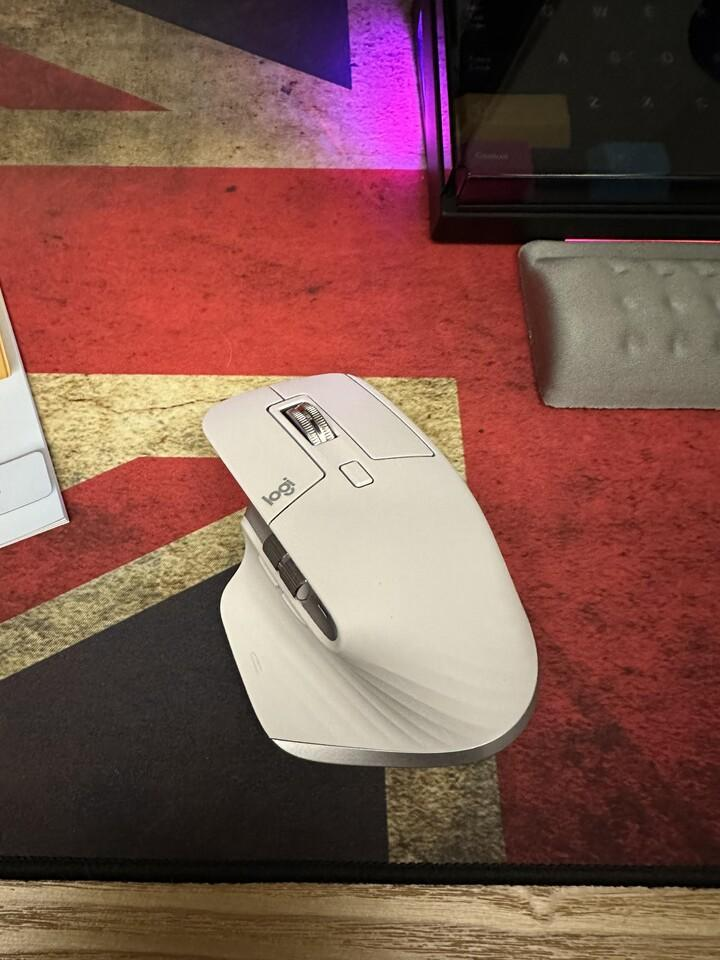mouse: (200, 370, 540, 768)
